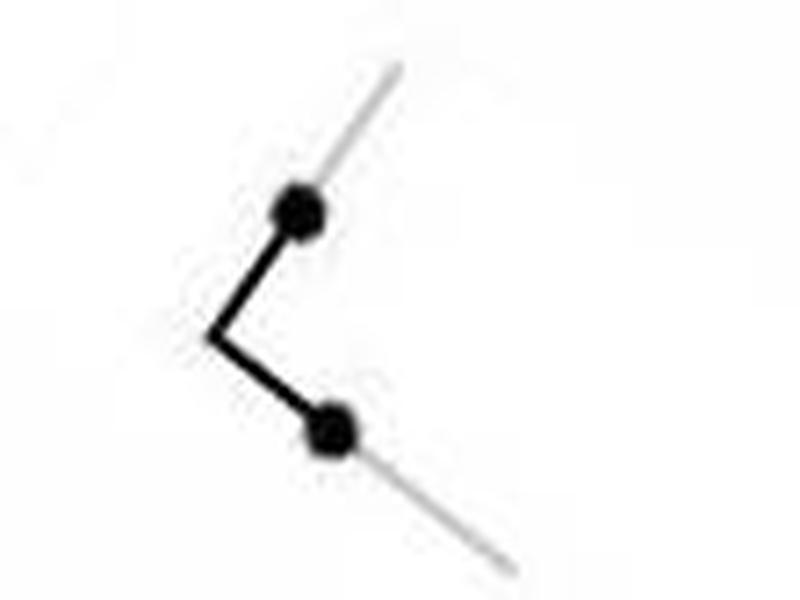butt_weld_90: (129, 136, 567, 581)
